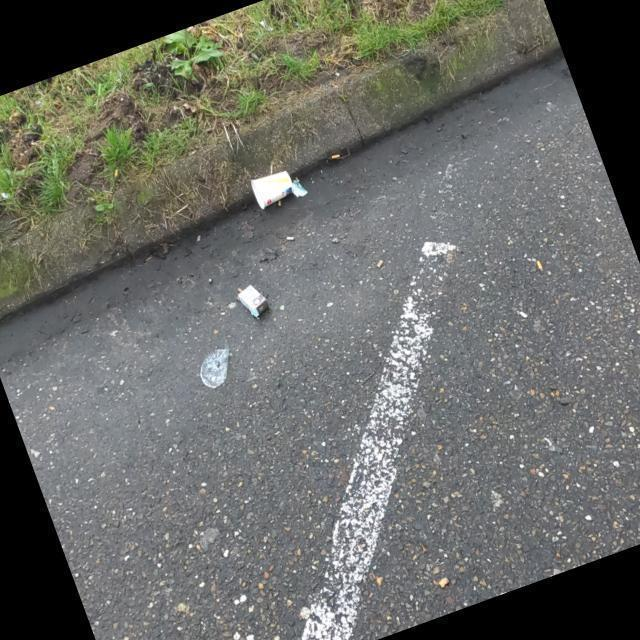Cup: (249, 170, 293, 210)
Paper: (199, 346, 231, 391), (235, 282, 271, 320)
Plastic: (292, 177, 310, 198)
